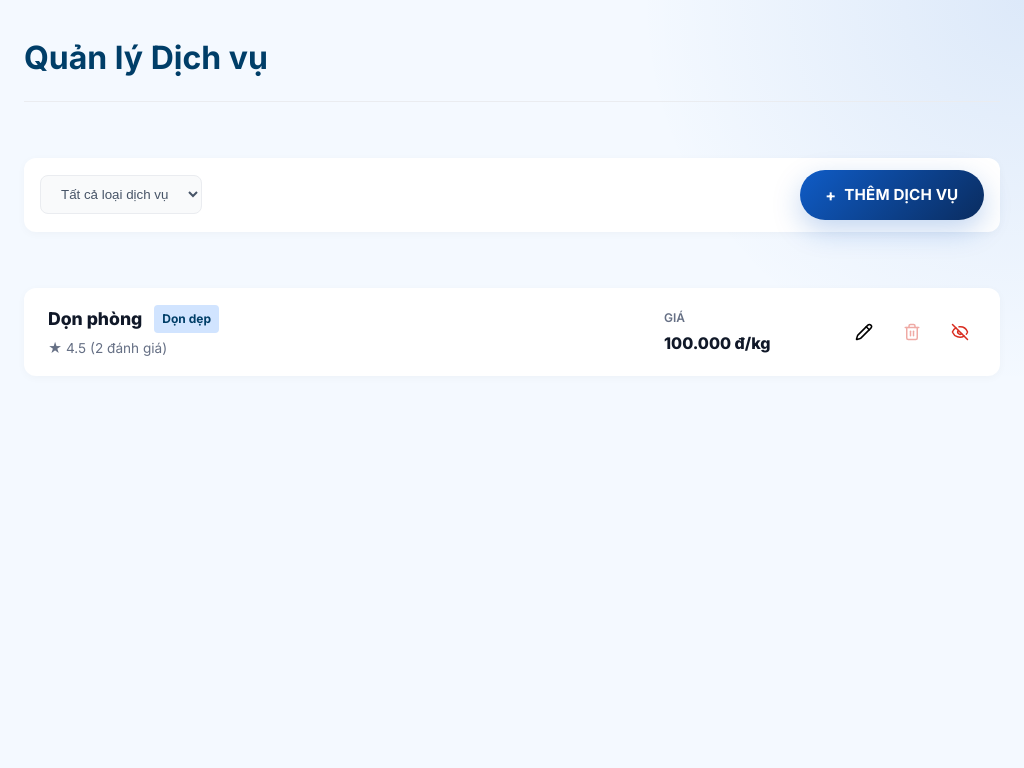
Test: ServiceManagement › sửa dịch vụ có unit không khớp preset → select hiện "Khác" với giá trị đúng
Expected: the text "Dọn phòng" is shown, [48,304,142,333]
Click the button titled "Sửa": (864, 332) [848,316,880,348]
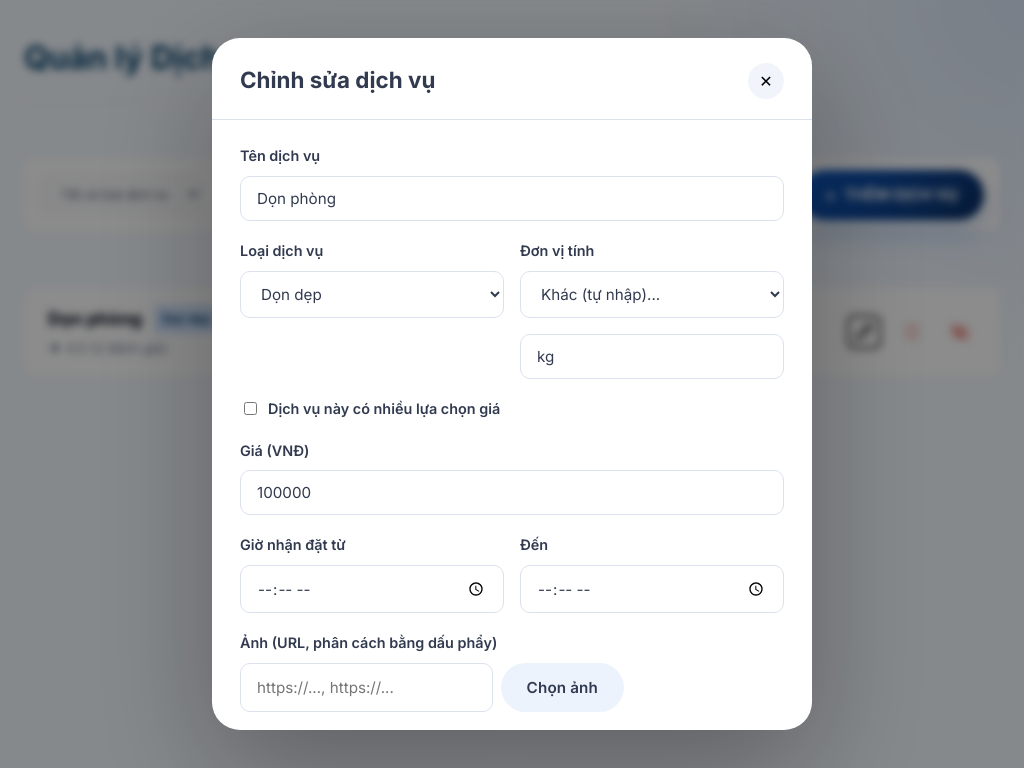
Result: the field with placeholder "VD: kg, phần, công" holds "kg" at [520,334,784,379]
